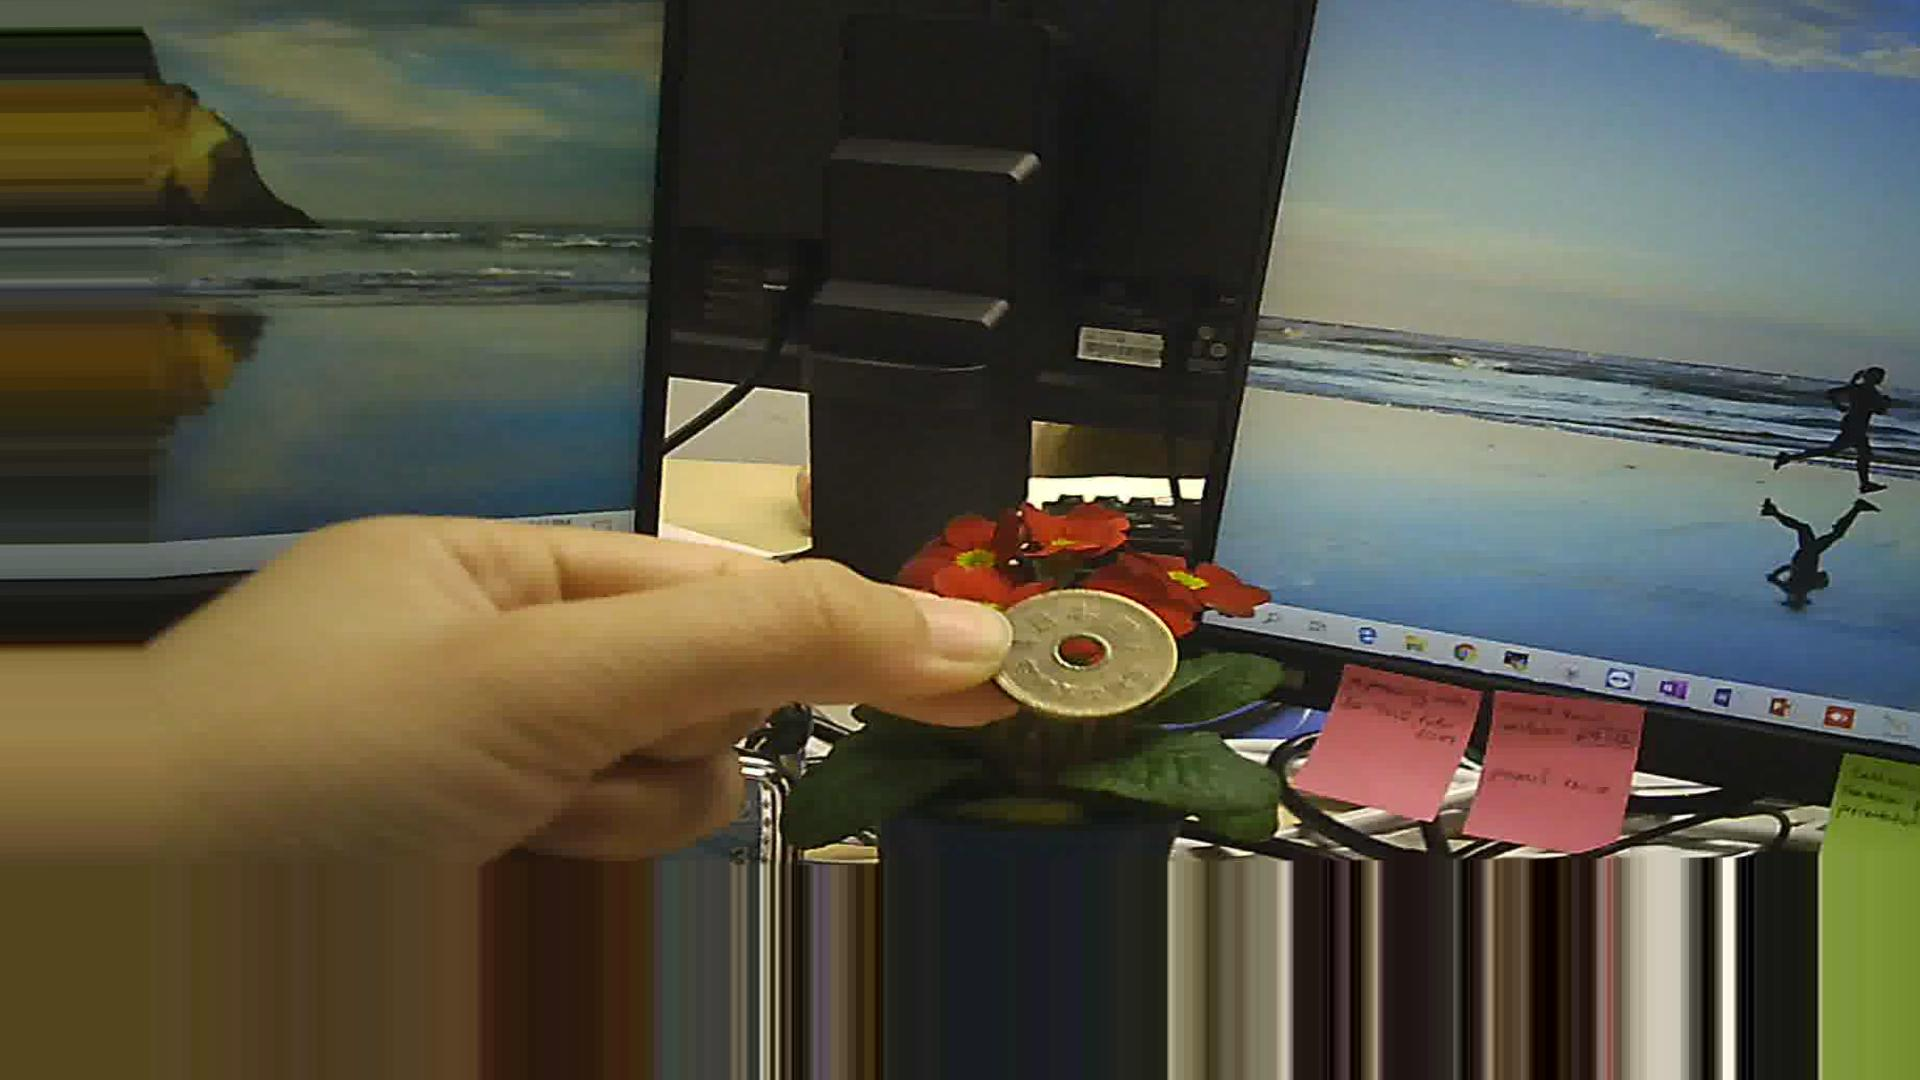5 Yen: (992, 580, 1178, 732)
